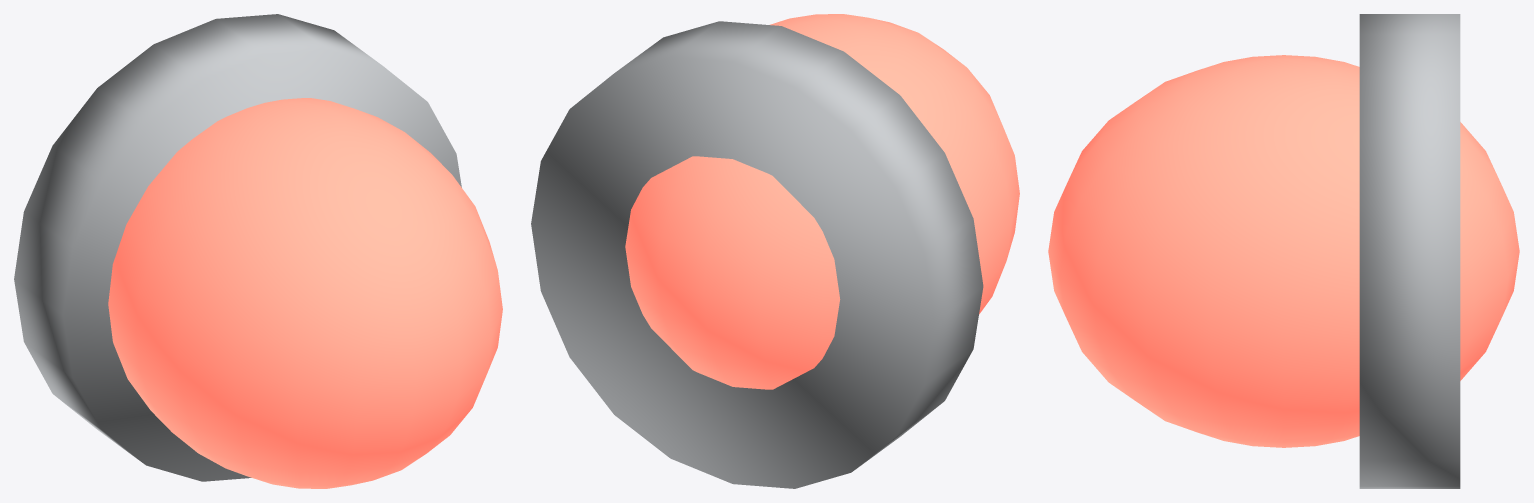
File: emergency_beacon.glb
3 views of the same model, side by side, from view 1: azimuth 30°, elevation 25°; view 2: azimuth 150°, elevation 25°; view 3: azimuth 270°, elevation 25° (orthographic). The views are drawn at different scales.
Visible parts, largest first — view 1: RedDome, BeaconBase; view 2: BeaconBase, RedDome; view 3: RedDome, BeaconBase.
Part boxes in pixels (x1,y1,x2,y2): RedDome: (108, 98, 502, 488); BeaconBase: (14, 14, 461, 481); BeaconBase: (531, 21, 983, 488); RedDome: (625, 14, 1019, 389); RedDome: (1048, 55, 1519, 447); BeaconBase: (1359, 14, 1460, 488).
Bounding box in the file's own units: 0.19 × 0.19 × 0.1872.
